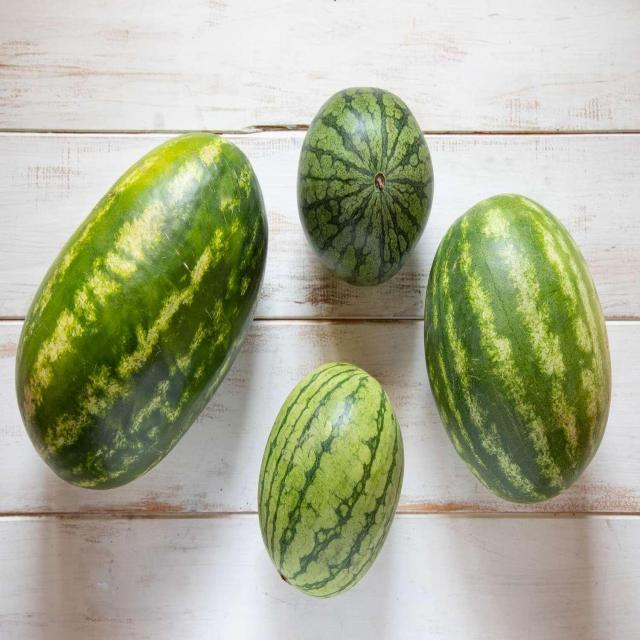watermelon: (7, 114, 270, 500), (421, 181, 624, 513), (253, 351, 407, 604), (288, 67, 437, 296)
